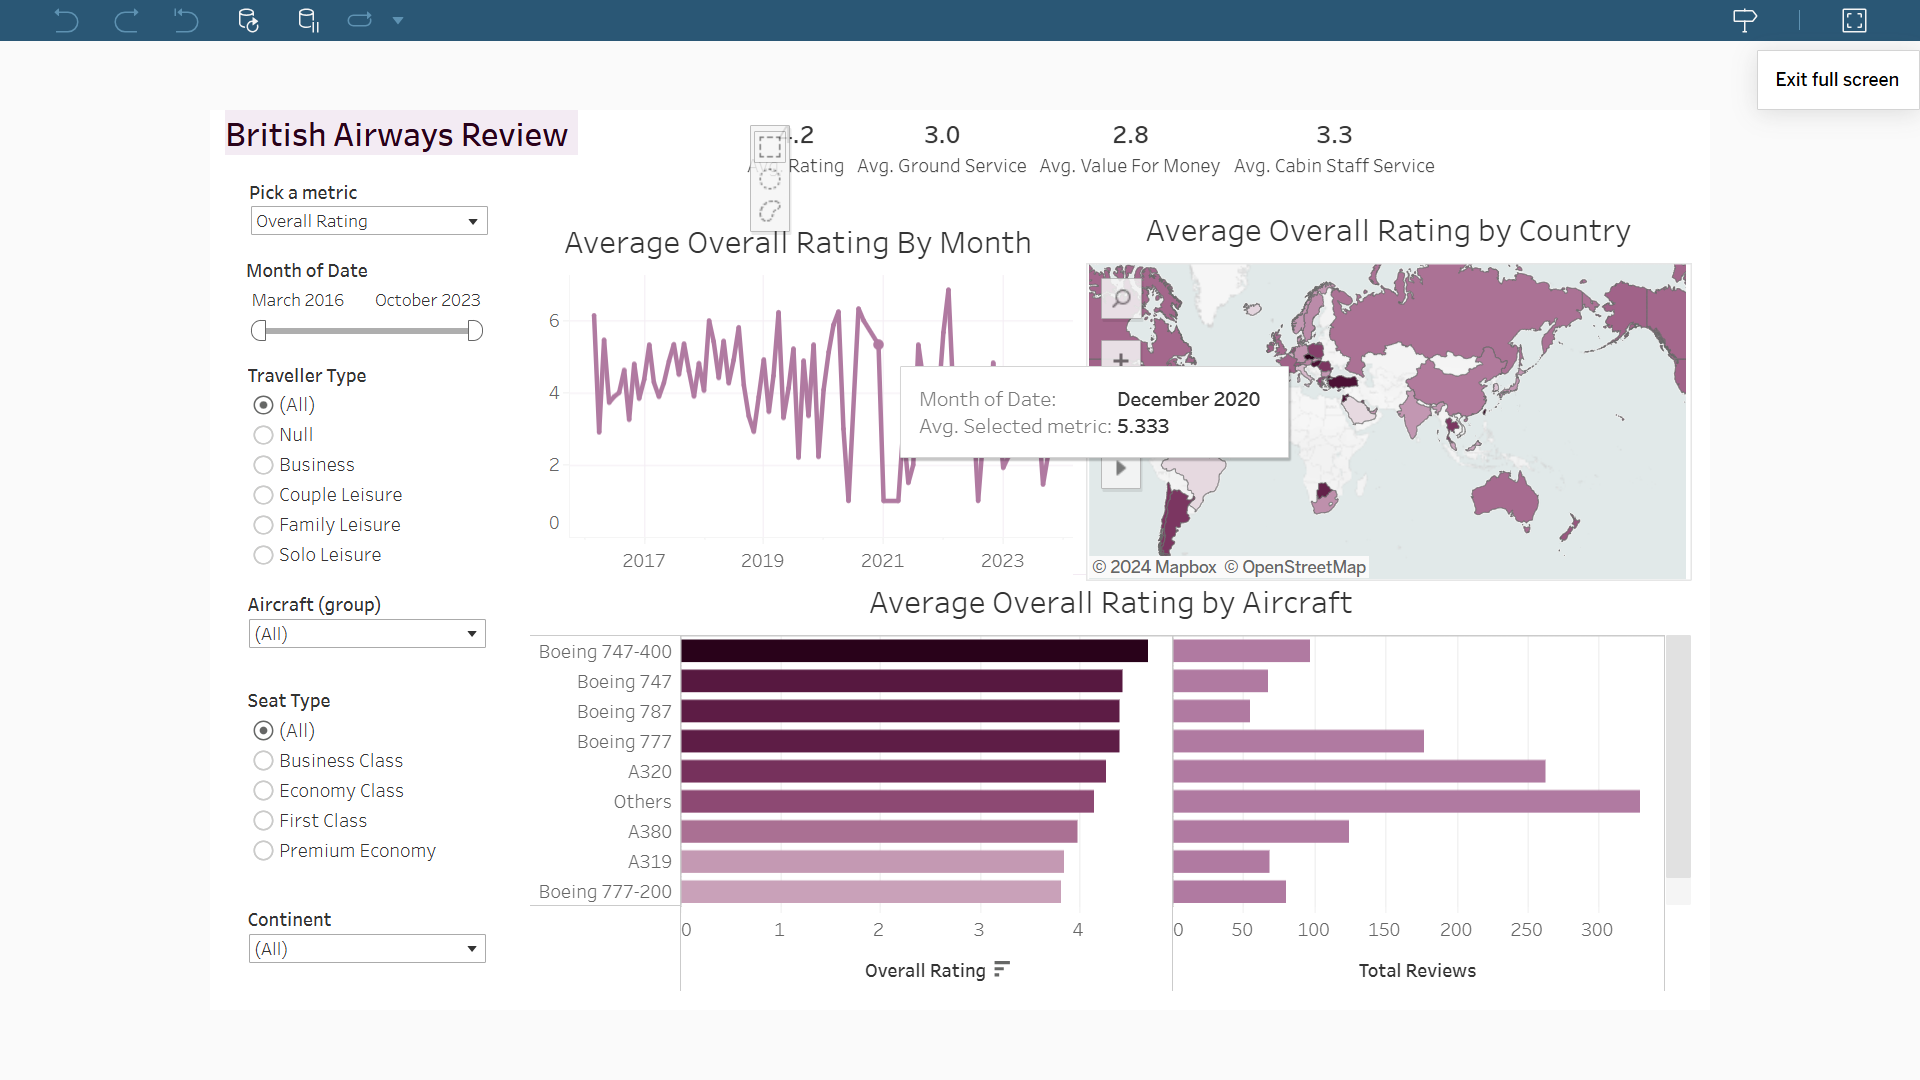

What the dashboard file says about the page in this screenshot:
{"tool":"tableau","page":{"name":"Dashboard 1","canvas":[1000,600],"ordinal":0},"visuals":[{"type":"text","box":[10,0,235,30]},{"type":"worksheet","title":"Summary","mark":"Automatic","box":[350,0,500,310]},{"type":"parameter","param":"[Parameters].[Parameter 1]","box":[26,45,160,48]},{"type":"worksheet","title":"Map","mark":"Automatic","box":[584,59,404,255]},{"type":"worksheet","title":"month","mark":"Automatic","rows":["Calculation_1055538190508036"],"cols":["date"],"box":[209,67,366,247]},{"type":"filter","title":"Map","param":"[federated.0pwc72611mdq2111i2pp107hb553].[tmn:date:qk]","box":[24,97,160,62]},{"type":"filter","title":"Map","param":"[federated.0pwc72611mdq2111i2pp107hb553].[none:traveller_type:nk]","box":[25,167,160,145]},{"type":"worksheet","title":"Aircraft","mark":"Automatic","cols":["Calculation_1055538190508036","ba_reviews.csv_6FAB8B9040F3418794D8CA142EDC6A79"],"box":[213,307,775,281]},{"type":"filter","title":"Map","param":"[federated.0pwc72611mdq2111i2pp107hb553].[Aircraft (group)]","box":[25,320,160,48]},{"type":"filter","title":"Map","param":"[federated.0pwc72611mdq2111i2pp107hb553].[none:seat_type:nk]","box":[25,384,160,125]},{"type":"filter","title":"Map","param":"[federated.0pwc72611mdq2111i2pp107hb553].[none:Continent:nk]","box":[25,530,160,48]}]}

Visuals, with their boxes on the page's 1000x600 design canvas (x1, y1, x2, y2). These are canvas units, not pixel positions in the 1920x1080 screenshot, which may show the page scaled, cropped or inside an application window:
text: select_region(10, 0, 245, 30)
"Summary" worksheet: select_region(350, 0, 850, 310)
parameter: select_region(26, 45, 186, 93)
"Map" worksheet: select_region(584, 59, 988, 314)
"month" worksheet: select_region(209, 67, 575, 314)
"Map" filter: select_region(24, 97, 184, 159)
"Map" filter: select_region(25, 167, 185, 312)
"Aircraft" worksheet: select_region(213, 307, 988, 588)
"Map" filter: select_region(25, 320, 185, 368)
"Map" filter: select_region(25, 384, 185, 509)
"Map" filter: select_region(25, 530, 185, 578)
